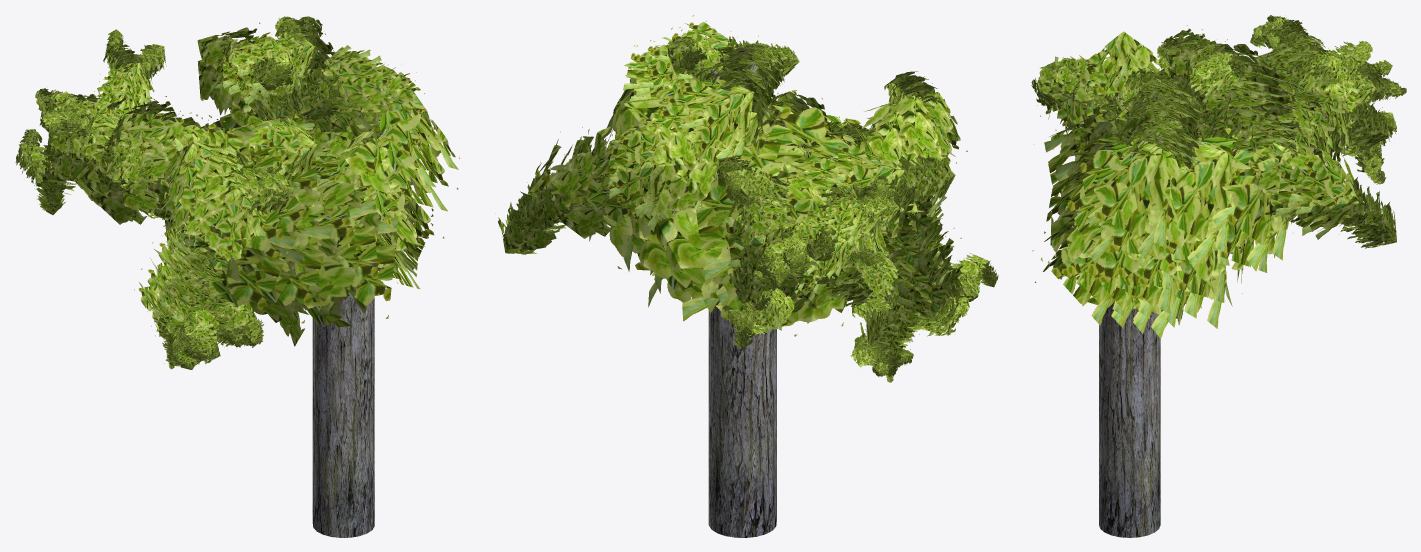
3 views of the same model, side by side, from view 1: azimuth 30°, elevation 25°; view 2: azimuth 150°, elevation 25°; view 3: azimuth 270°, elevation 25° (orthographic). The views are drawn at different scales.
Parts seen in each view (by area): view 1: PyramidLeaf (8), PyramidLeaf, treeStart leaves, PyramidLeaf (7), PyramidLeaf (1), PyramidLeaf (12), PyramidLeaf (5), PyramidLeaf (6), PyramidLeaf (4), PyramidLeaf (2), PyramidLeaf (3), PyramidLeaf (13) (+3 smaller); view 2: PyramidLeaf (8), PyramidLeaf (12), treeStart leaves, PyramidLeaf, PyramidLeaf (7), PyramidLeaf (1), PyramidLeaf (13), PyramidLeaf (5), PyramidLeaf (6), PyramidLeaf (11), PyramidLeaf (4), PyramidLeaf (9) (+3 smaller); view 3: PyramidLeaf (8), treeStart leaves, PyramidLeaf, PyramidLeaf (7), PyramidLeaf (12), PyramidLeaf (1), PyramidLeaf (5), PyramidLeaf (6), PyramidLeaf (4), PyramidLeaf (3), PyramidLeaf (2), PyramidLeaf (13) (+3 smaller).
Boxes of the visible parts, x1,y1,x2,y2 form: PyramidLeaf (8): [15, 16, 459, 369]; PyramidLeaf: [16, 18, 458, 367]; treeStart leaves: [312, 262, 374, 537]; PyramidLeaf (7): [19, 16, 458, 367]; PyramidLeaf (1): [22, 19, 447, 365]; PyramidLeaf (12): [21, 23, 431, 368]; PyramidLeaf (5): [22, 16, 444, 365]; PyramidLeaf (6): [23, 25, 421, 366]; PyramidLeaf (4): [20, 17, 433, 367]; PyramidLeaf (2): [20, 19, 424, 362]; PyramidLeaf (3): [19, 16, 433, 365]; PyramidLeaf (13): [23, 25, 435, 367]; PyramidLeaf (8): [500, 15, 998, 382]; PyramidLeaf (12): [518, 43, 996, 378]; treeStart leaves: [708, 301, 776, 537]; PyramidLeaf: [495, 21, 998, 382]; PyramidLeaf (7): [505, 27, 996, 381]; PyramidLeaf (1): [508, 27, 995, 379]; PyramidLeaf (13): [510, 41, 994, 380]; PyramidLeaf (5): [518, 40, 993, 378]; PyramidLeaf (6): [509, 38, 992, 380]; PyramidLeaf (11): [525, 42, 991, 378]; PyramidLeaf (4): [527, 36, 990, 377]; PyramidLeaf (9): [538, 53, 990, 364]; PyramidLeaf (8): [1034, 15, 1406, 260]; treeStart leaves: [1099, 301, 1160, 537]; PyramidLeaf: [1031, 15, 1406, 247]; PyramidLeaf (7): [1040, 16, 1405, 272]; PyramidLeaf (12): [1050, 17, 1406, 271]; PyramidLeaf (1): [1044, 17, 1404, 270]; PyramidLeaf (5): [1047, 16, 1403, 302]; PyramidLeaf (6): [1040, 16, 1404, 293]; PyramidLeaf (4): [1032, 16, 1402, 327]; PyramidLeaf (3): [1035, 17, 1401, 333]; PyramidLeaf (2): [1050, 17, 1402, 296]; PyramidLeaf (13): [1050, 16, 1395, 254].
Bounding box in the file's own units: 7.72 × 10.17 × 7.4.
